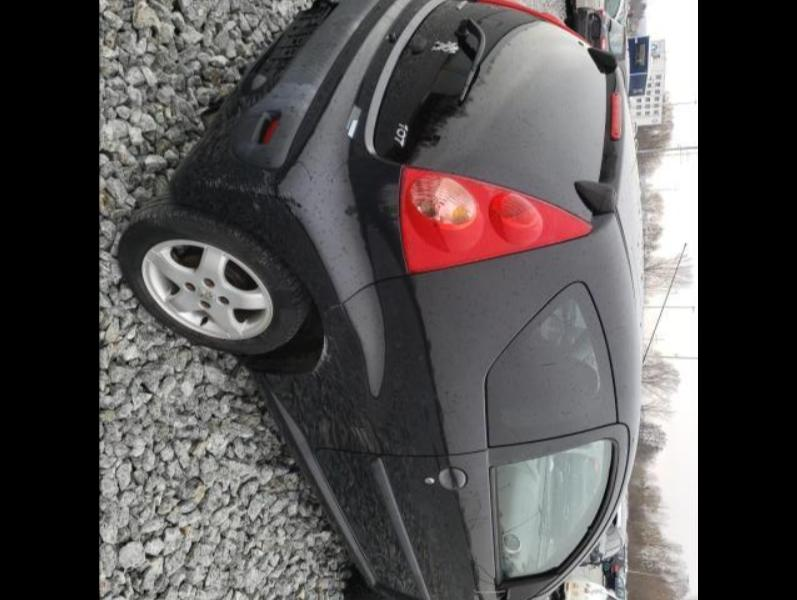Missing part: (254, 8, 330, 80), (496, 576, 554, 600)
Scratch: (186, 174, 300, 208), (308, 332, 334, 382), (350, 418, 374, 454), (314, 414, 334, 446), (250, 196, 264, 210)
